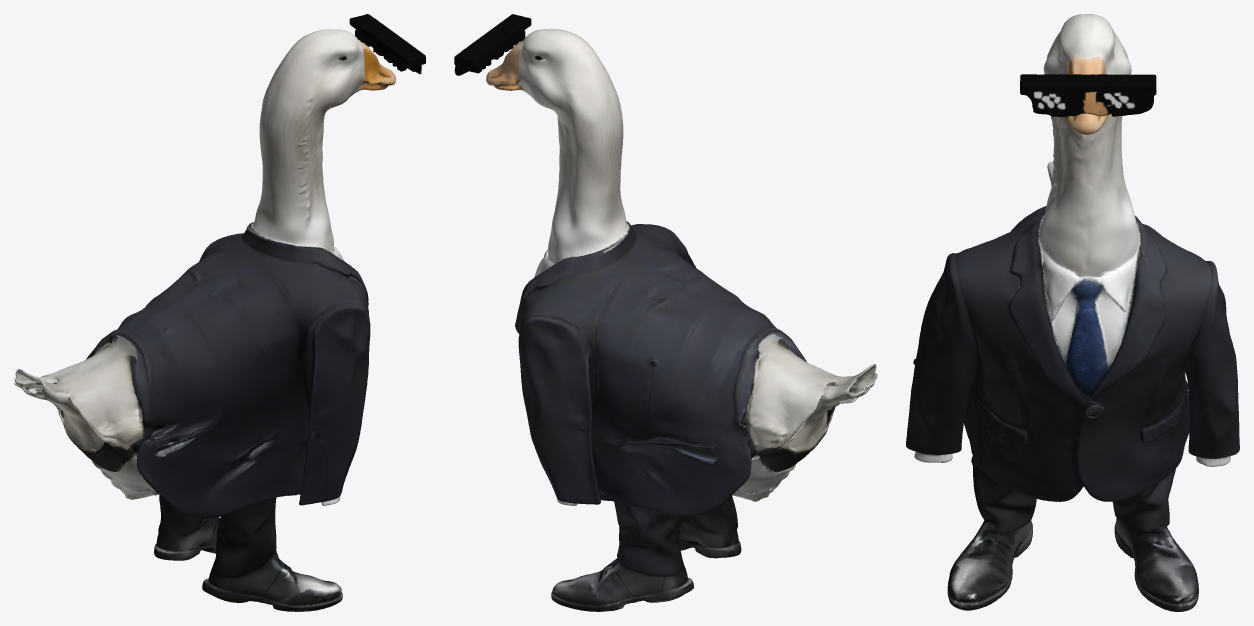
The picture shows the model from 3 angles, left to right: view 1: azimuth 30°, elevation 25°; view 2: azimuth 150°, elevation 25°; view 3: azimuth 270°, elevation 25°; orthographic projection. The views are drawn at different scales.
Visible parts, largest first — view 1: tripo_node_c21e36f9-50d4-4bc4-97cc-3e2f063193fa; view 2: tripo_node_c21e36f9-50d4-4bc4-97cc-3e2f063193fa; view 3: tripo_node_c21e36f9-50d4-4bc4-97cc-3e2f063193fa.
Boxes of the visible parts, left/top/right/bottom form: tripo_node_c21e36f9-50d4-4bc4-97cc-3e2f063193fa: left=14, top=14, right=425, bottom=611; tripo_node_c21e36f9-50d4-4bc4-97cc-3e2f063193fa: left=454, top=14, right=877, bottom=611; tripo_node_c21e36f9-50d4-4bc4-97cc-3e2f063193fa: left=906, top=14, right=1239, bottom=611.
Bounding box in the file's own units: 0.7616 × 1 × 0.4915.
1 material, 1 textured.
